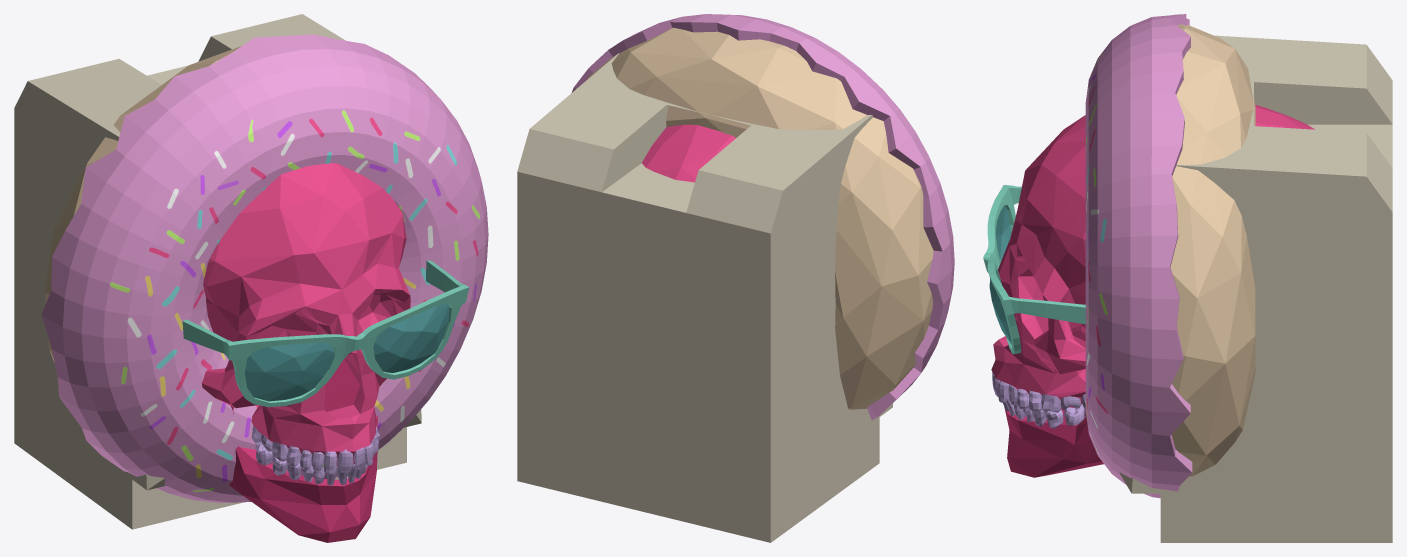
Rendered from eli-wtf-models.fbx.
The picture shows the model from 3 angles, left to right: view 1: azimuth 30°, elevation 25°; view 2: azimuth 150°, elevation 25°; view 3: azimuth 270°, elevation 25°; orthographic projection. The views are drawn at different scales.
Visible parts, largest first — view 1: icing, Skull, Mac, plural lenses, Shades, donut.001; view 2: Mac, donut.001, icing, Skull; view 3: Mac, icing, donut.001, Skull, Shades, plural lenses.
Boxes of the visible parts, bbox=[...] form: icing: bbox=[41, 34, 488, 502]; Skull: bbox=[201, 163, 410, 542]; Mac: bbox=[14, 14, 421, 529]; plural lenses: bbox=[244, 304, 449, 401]; Shades: bbox=[182, 260, 469, 407]; donut.001: bbox=[44, 46, 241, 362]; Mac: bbox=[517, 53, 892, 542]; donut.001: bbox=[587, 27, 933, 409]; icing: bbox=[571, 14, 954, 420]; Skull: bbox=[642, 124, 735, 182]; Mac: bbox=[1119, 35, 1392, 542]; icing: bbox=[1085, 14, 1192, 498]; donut.001: bbox=[1170, 24, 1255, 476]; Skull: bbox=[991, 105, 1314, 477]; Shades: bbox=[983, 185, 1085, 354]; plural lenses: bbox=[989, 205, 1011, 344].
Size of the model in its own units: 200 by 200 by 169.
11 materials, 1 textured.
